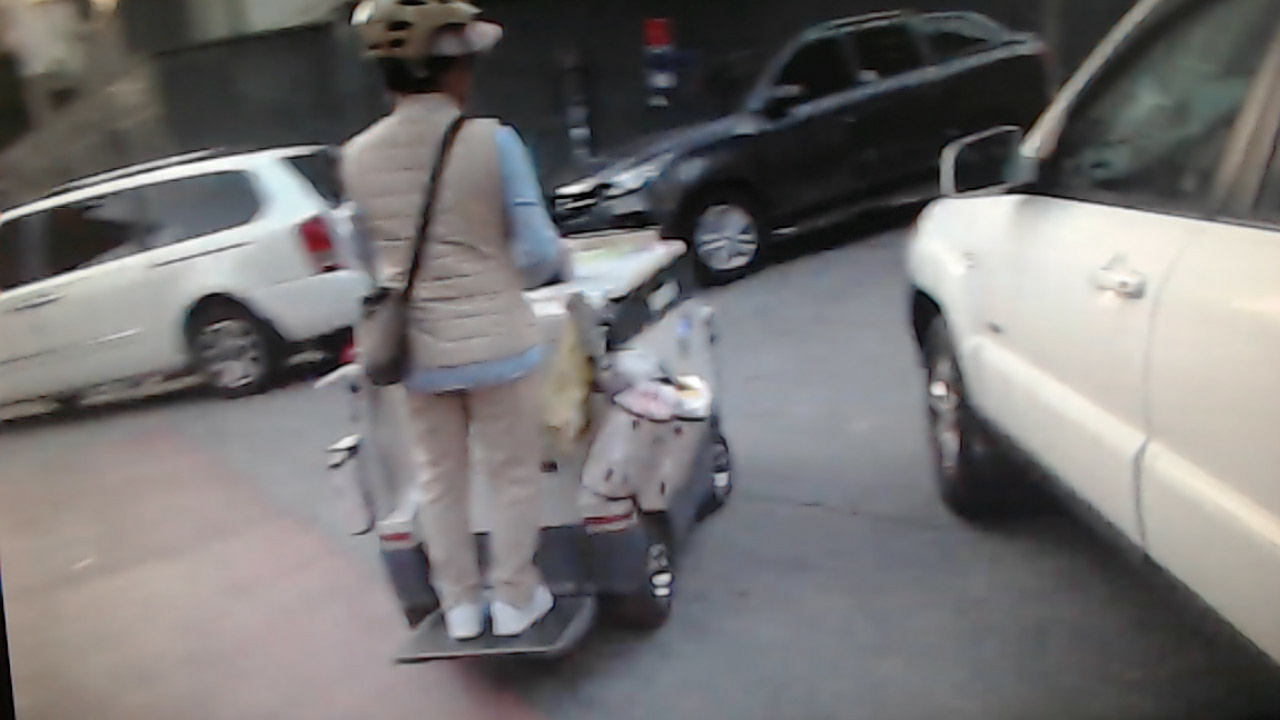Yakurut: (323, 4, 594, 669)
